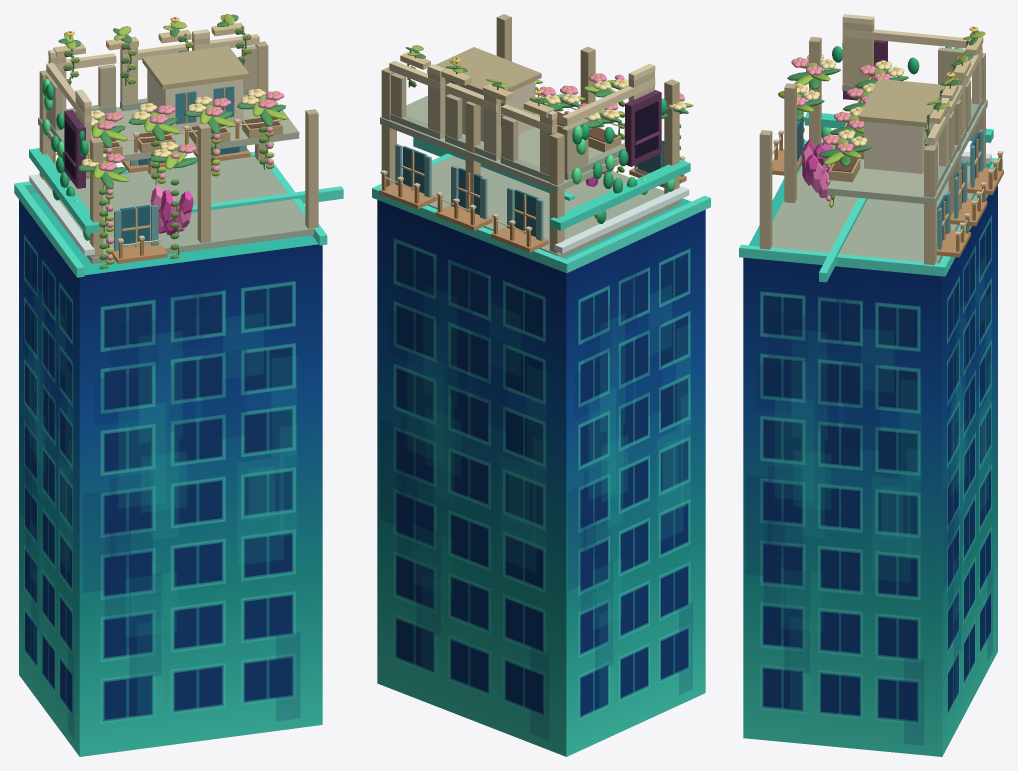
The model's file is unit_02.glb.
The picture shows the model from 3 angles, left to right: view 1: azimuth 30°, elevation 25°; view 2: azimuth 150°, elevation 25°; view 3: azimuth 270°, elevation 25°; orthographic projection.
Parts seen in each view (by area): view 1: unit_02; view 2: unit_02; view 3: unit_02.
Boxes of the visible parts, x1,y1,x2,y2 form: unit_02: (14, 14, 343, 756); unit_02: (372, 14, 710, 756); unit_02: (739, 14, 1003, 756).
Size of the model in its own units: 14.59 by 32.04 by 11.94.
Materials: 3 (1 with a texture image).
